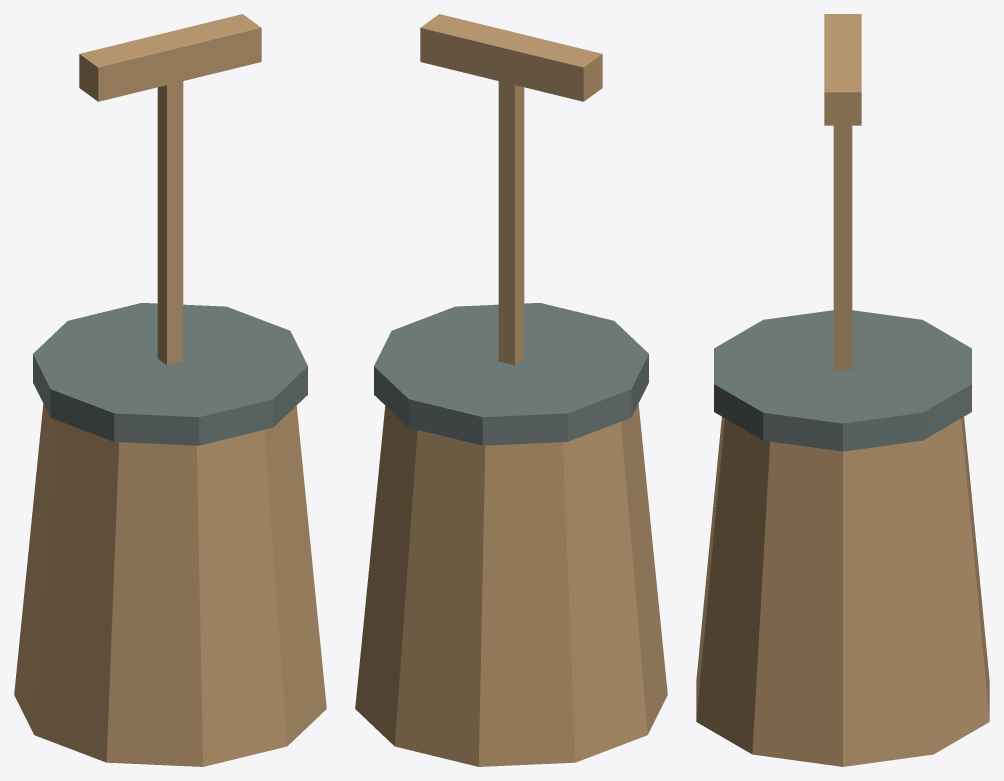
File: cozy-farm-and-homestead-butter-churn-5eed0bfb__19418.glb
The picture shows the model from 3 angles, left to right: view 1: azimuth 30°, elevation 25°; view 2: azimuth 150°, elevation 25°; view 3: azimuth 270°, elevation 25°; orthographic projection.
Visible parts, largest first — view 1: butter-churn; view 2: butter-churn; view 3: butter-churn.
Part boxes in pixels (<box>): butter-churn: <box>14,14,326,766</box>; butter-churn: <box>355,14,667,766</box>; butter-churn: <box>696,14,989,766</box>.
Size of the model in its own units: 0.5 by 1.16 by 0.4755.
